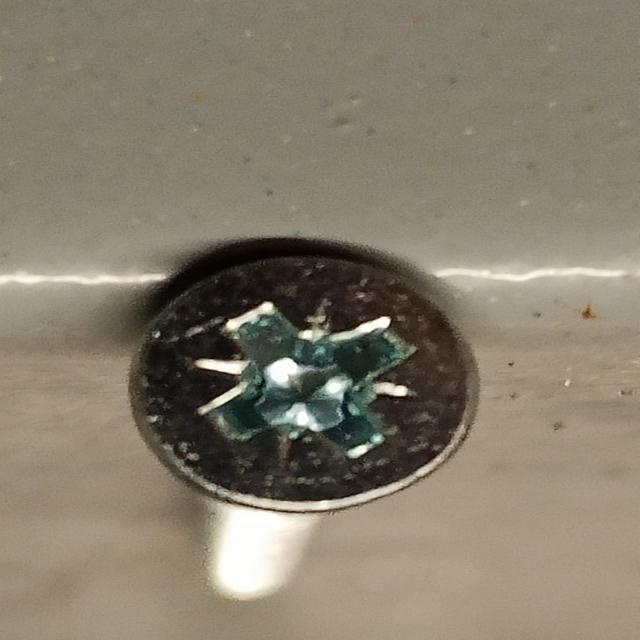pozidriv: (128, 251, 484, 513)
